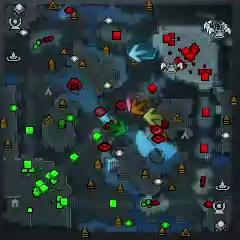x1: (125, 95, 140, 112)
x2: (142, 106, 163, 126)
x3: (128, 43, 148, 64)
x4: (108, 118, 128, 139)
x5: (130, 97, 148, 116)
